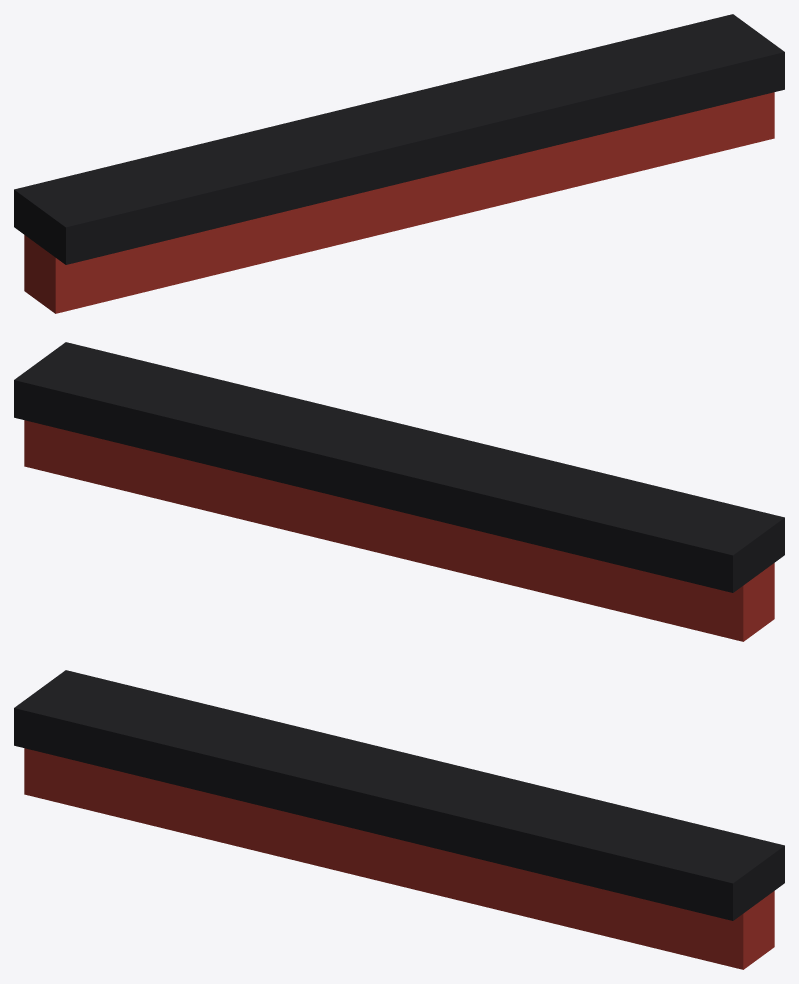
3 renders of one model, top to bottom at view 1: azimuth 30°, elevation 25°; view 2: azimuth 150°, elevation 25°; view 3: azimuth 330°, elevation 25°, orthographic.
Visible parts, largest first — view 1: efang-group-a@1.0.0; view 2: efang-group-a@1.0.0; view 3: efang-group-a@1.0.0.
Boxes of the visible parts, x1,y1,x2,y2 form: efang-group-a@1.0.0: (14, 14, 784, 313); efang-group-a@1.0.0: (14, 342, 784, 641); efang-group-a@1.0.0: (14, 670, 784, 969).
Bounding box in the file's own units: 4 × 0.5 × 0.5.
